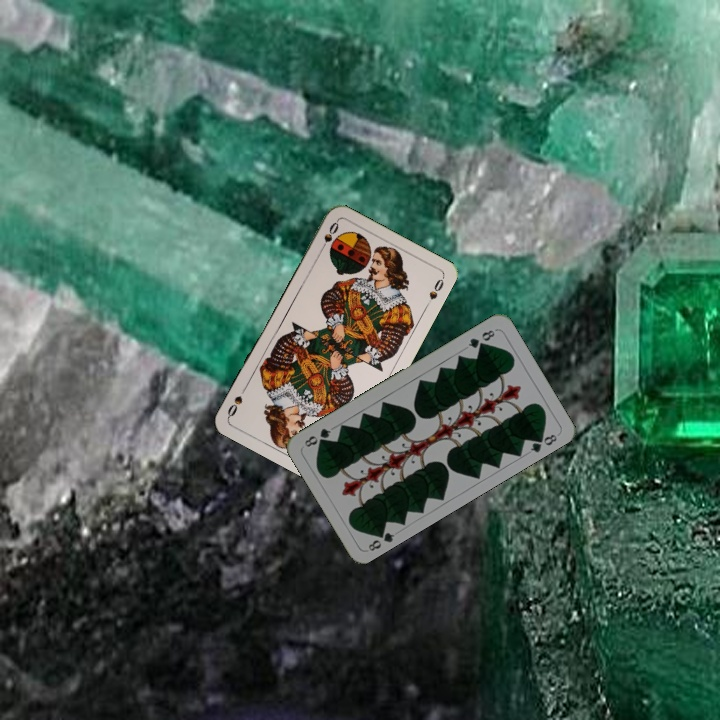G8: (364, 525, 397, 554), (464, 326, 497, 351)
SO: (316, 217, 341, 255)
